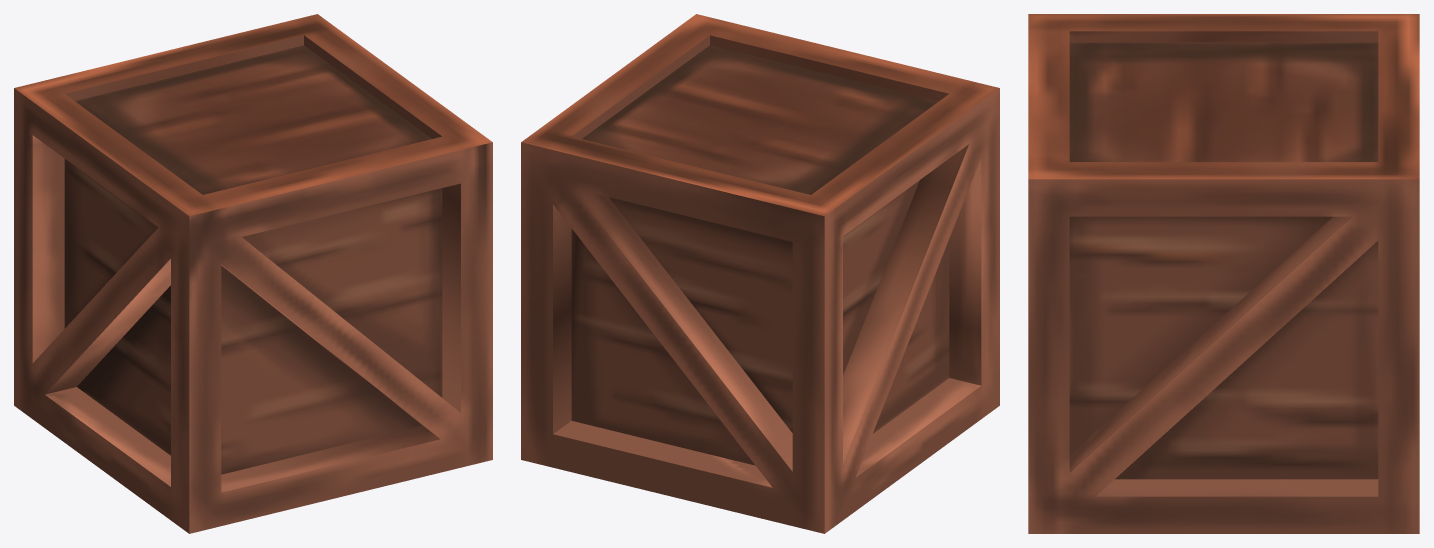
The model's file is Crate.fbx.
3 views of the same model, side by side, from view 1: azimuth 30°, elevation 25°; view 2: azimuth 150°, elevation 25°; view 3: azimuth 270°, elevation 25° (orthographic). The views are drawn at different scales.
Visible parts, largest first — view 1: Caisse 001; view 2: Caisse 001; view 3: Caisse 001.
Part boxes in pixels (box(x1,y1,x2,y2)): Caisse 001: box(14, 14, 492, 533); Caisse 001: box(521, 14, 999, 533); Caisse 001: box(1028, 14, 1419, 533).
Size of the model in its own units: 200 by 200 by 200.
